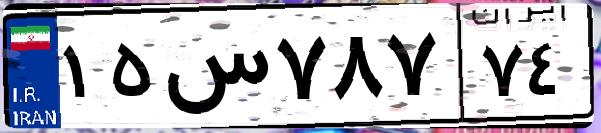1: (57, 26, 110, 100)
4: (525, 38, 570, 115)
5: (110, 28, 158, 98)
7: (270, 28, 330, 110), (385, 28, 445, 110), (475, 38, 525, 113)
8: (330, 28, 385, 110)
س: (158, 20, 270, 120)
